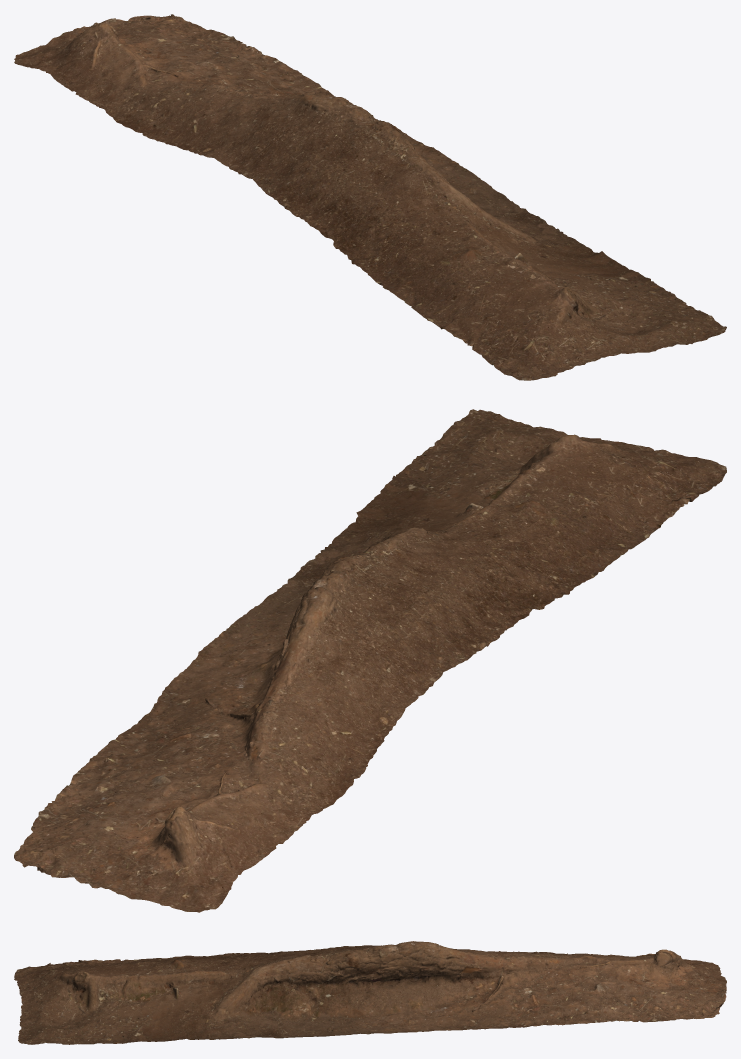
File: single_root.fbx
3 views of the same model, one above another, from view 1: azimuth 30°, elevation 25°; view 2: azimuth 150°, elevation 25°; view 3: azimuth 270°, elevation 25° (orthographic). The views are drawn at different scales.
Parts seen in each view (by area): view 1: single_root_LOD0; view 2: single_root_LOD0; view 3: single_root_LOD0.
Boxes of the visible parts, x1,y1,x2,y2 form: single_root_LOD0: (14, 14, 726, 380); single_root_LOD0: (14, 409, 726, 912); single_root_LOD0: (14, 941, 726, 1044).
Size of what is drawn, in the model's own units: 55.52 by 17.79 by 184.
Materials: 1 (1 with a texture image).
